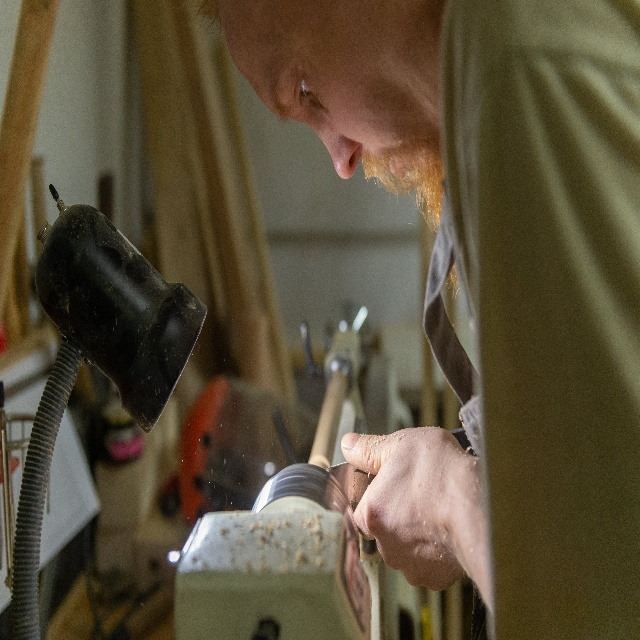Sin_guantes: (341, 426, 469, 592)
